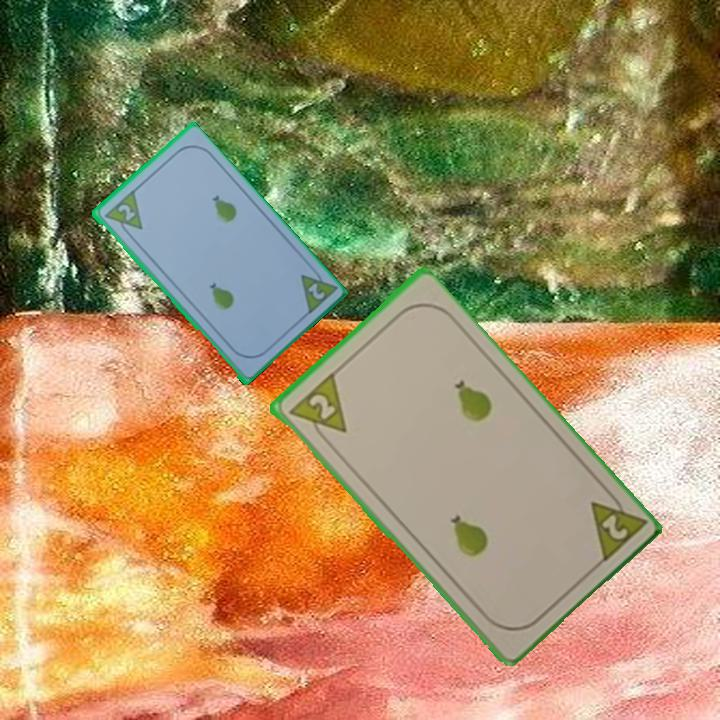2p: (585, 484, 648, 567), (284, 370, 349, 449), (114, 200, 138, 224), (304, 279, 327, 303)
